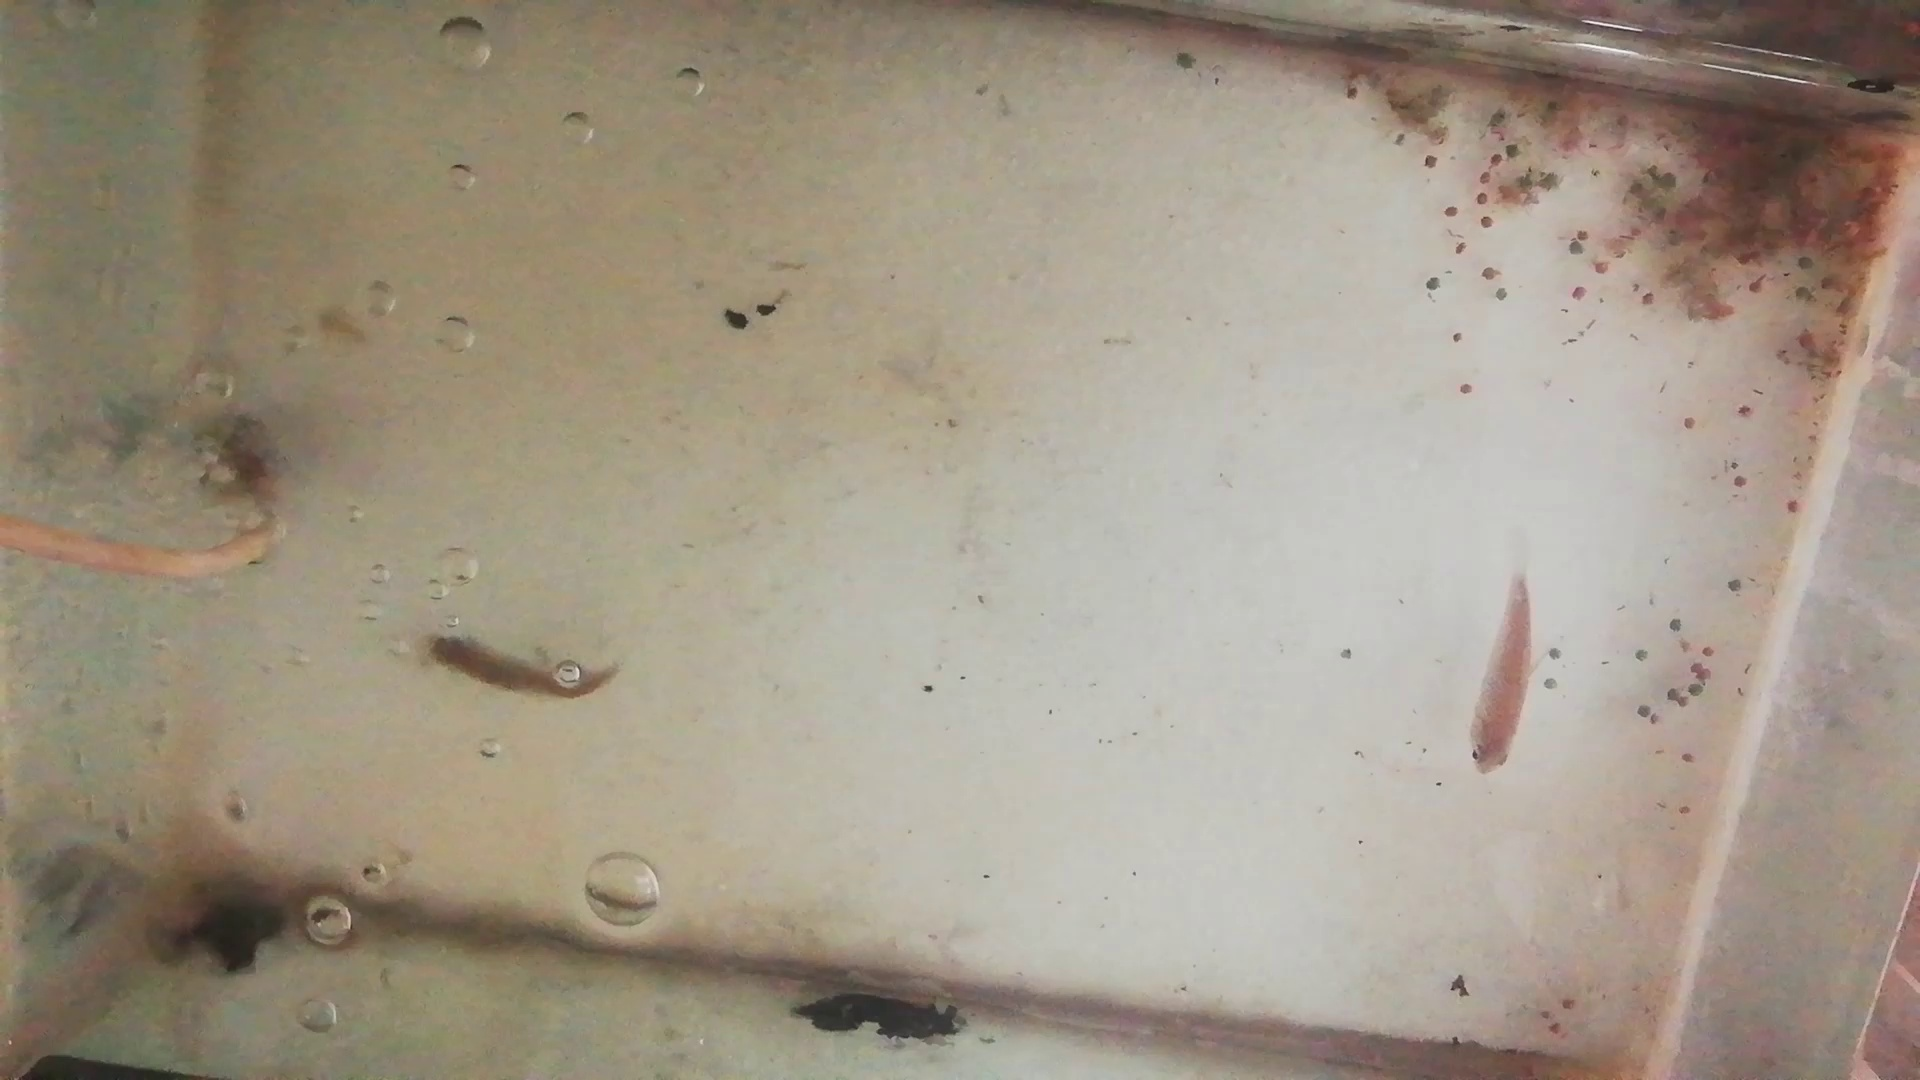fish: (417, 634, 618, 700), (1472, 576, 1528, 775)
